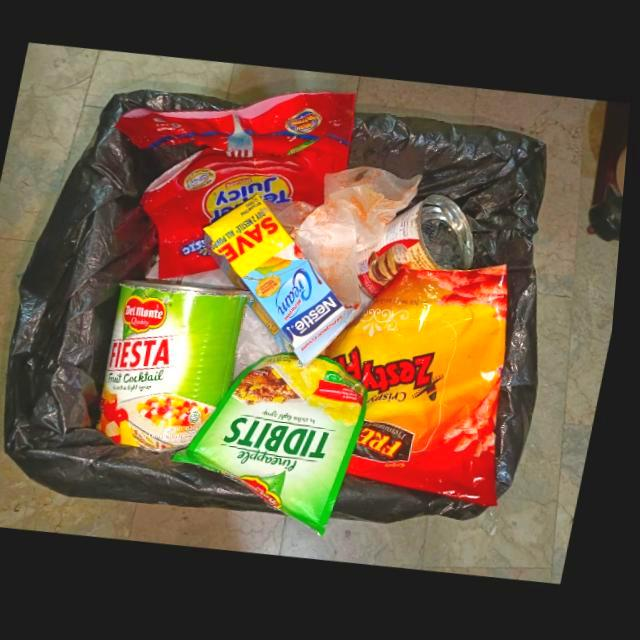aluminum: (103, 281, 254, 452), (361, 196, 478, 300)
food_wrapper: (116, 93, 358, 280), (329, 266, 513, 510), (179, 354, 374, 538)
paper: (268, 168, 425, 311)
